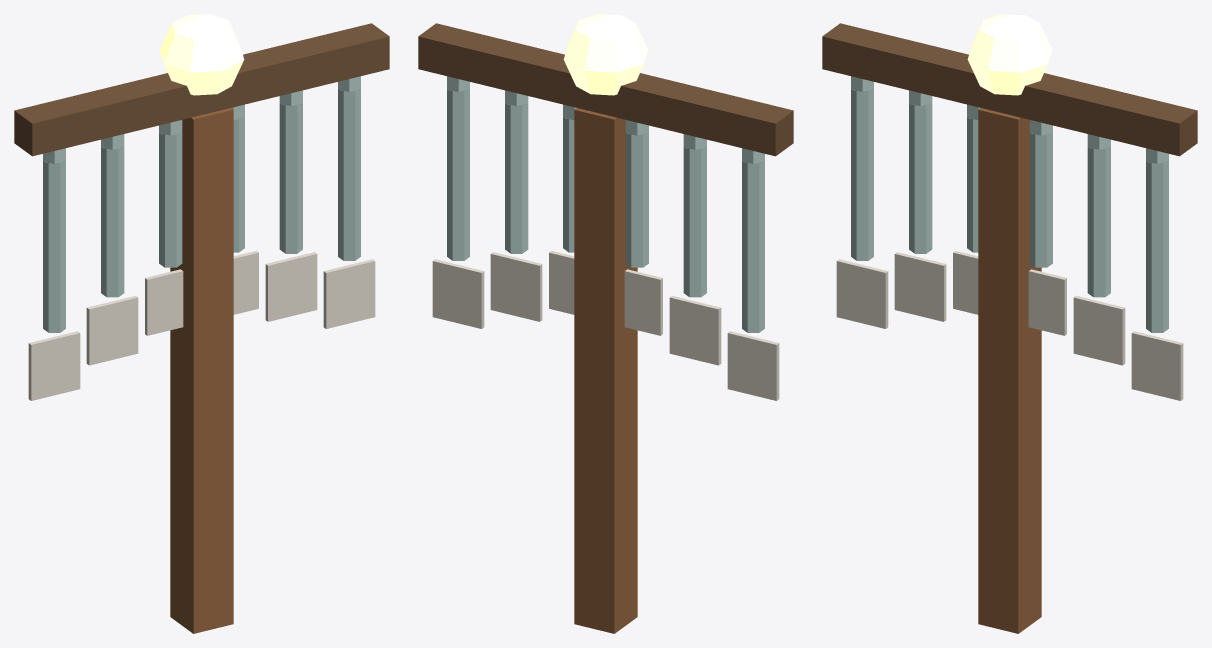
File: xy_isle_windchime.glb
3 renders of one model, left to right at view 1: azimuth 30°, elevation 25°; view 2: azimuth 150°, elevation 25°; view 3: azimuth 330°, elevation 25°, orthographic.
Visible parts, largest first — view 1: Windchime; view 2: Windchime; view 3: Windchime.
Boxes of the visible parts, x1=… form: Windchime: x1=14, y1=14, x2=389, y2=633; Windchime: x1=418, y1=14, x2=793, y2=633; Windchime: x1=822, y1=14, x2=1197, y2=633.
Bounding box in the file's own units: 1.6 × 2.59 × 0.34.
